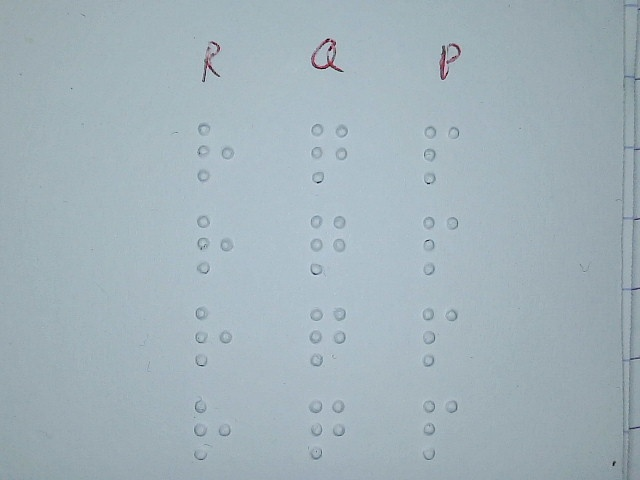P: (422, 122, 462, 186), (421, 213, 461, 277), (420, 304, 460, 368), (420, 397, 460, 461)
Q: (310, 120, 350, 184), (308, 212, 348, 276), (308, 304, 348, 368), (308, 396, 348, 460)
R: (196, 120, 236, 184), (195, 212, 235, 276), (193, 304, 233, 368), (192, 397, 232, 461)
